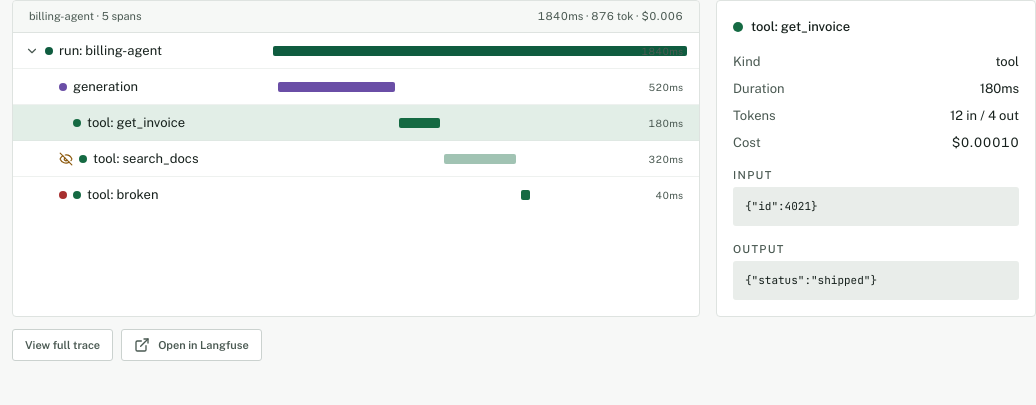
RunInspector (native summary from flat spans) › shows a generation's model + tokens when selected
Click the list item with test id "span-row-gen" at (356, 87), box [13,69,699,105]
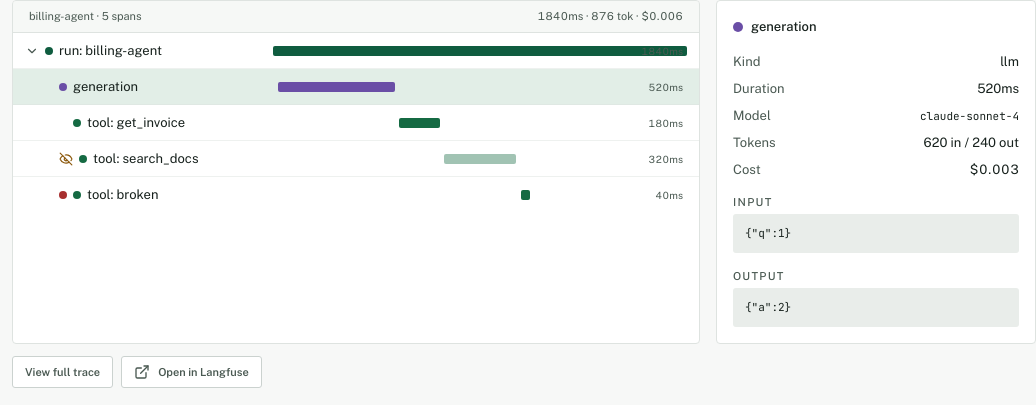
Check: the element with test id "span-detail" shows "claude-sonnet-4", box [920,109,1019,123]
Check: the element with test id "span-detail" shows "620 in / 240 out", box [924,135,1019,150]
